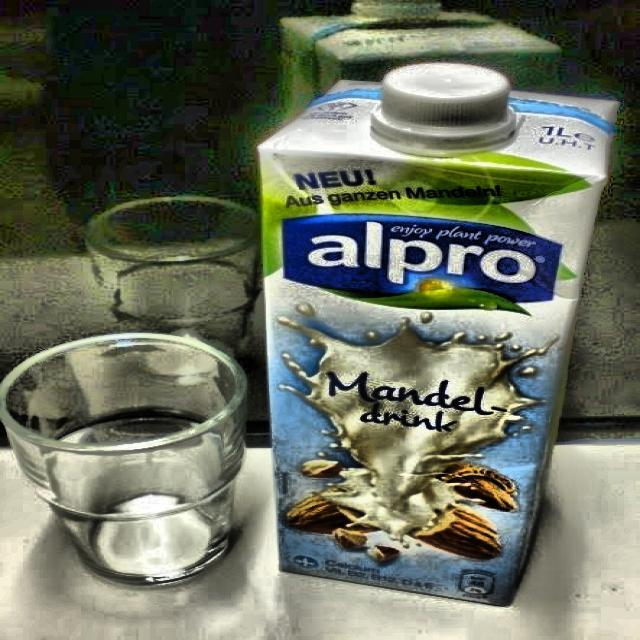cardboard: (256, 67, 618, 606)
